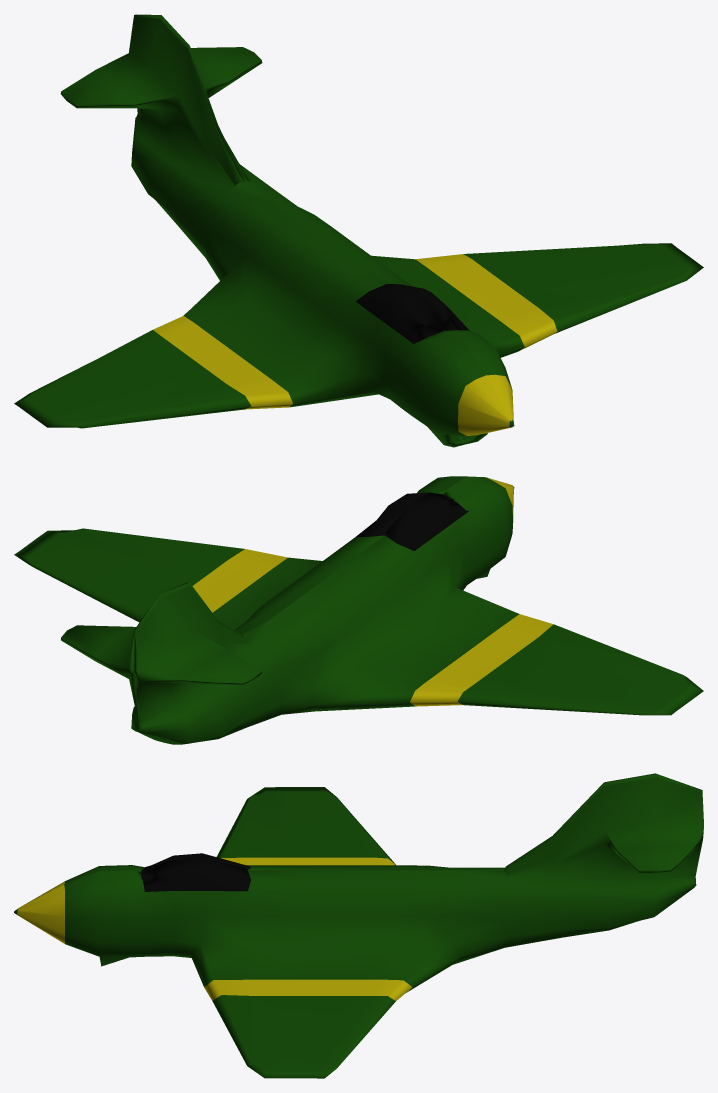
File: avion1.glb
The picture shows the model from 3 angles, top to bottom: view 1: azimuth 30°, elevation 25°; view 2: azimuth 150°, elevation 25°; view 3: azimuth 270°, elevation 25°; orthographic projection. The views are drawn at different scales.
Parts seen in each view (by area): view 1: Cube; view 2: Cube; view 3: Cube.
Boxes of the visible parts, x1,y1,x2,y2 form: Cube: (14, 14, 703, 447); Cube: (14, 476, 703, 744); Cube: (14, 773, 703, 1078).
Size of the model in its own units: 16.18 by 4.85 by 16.18.
